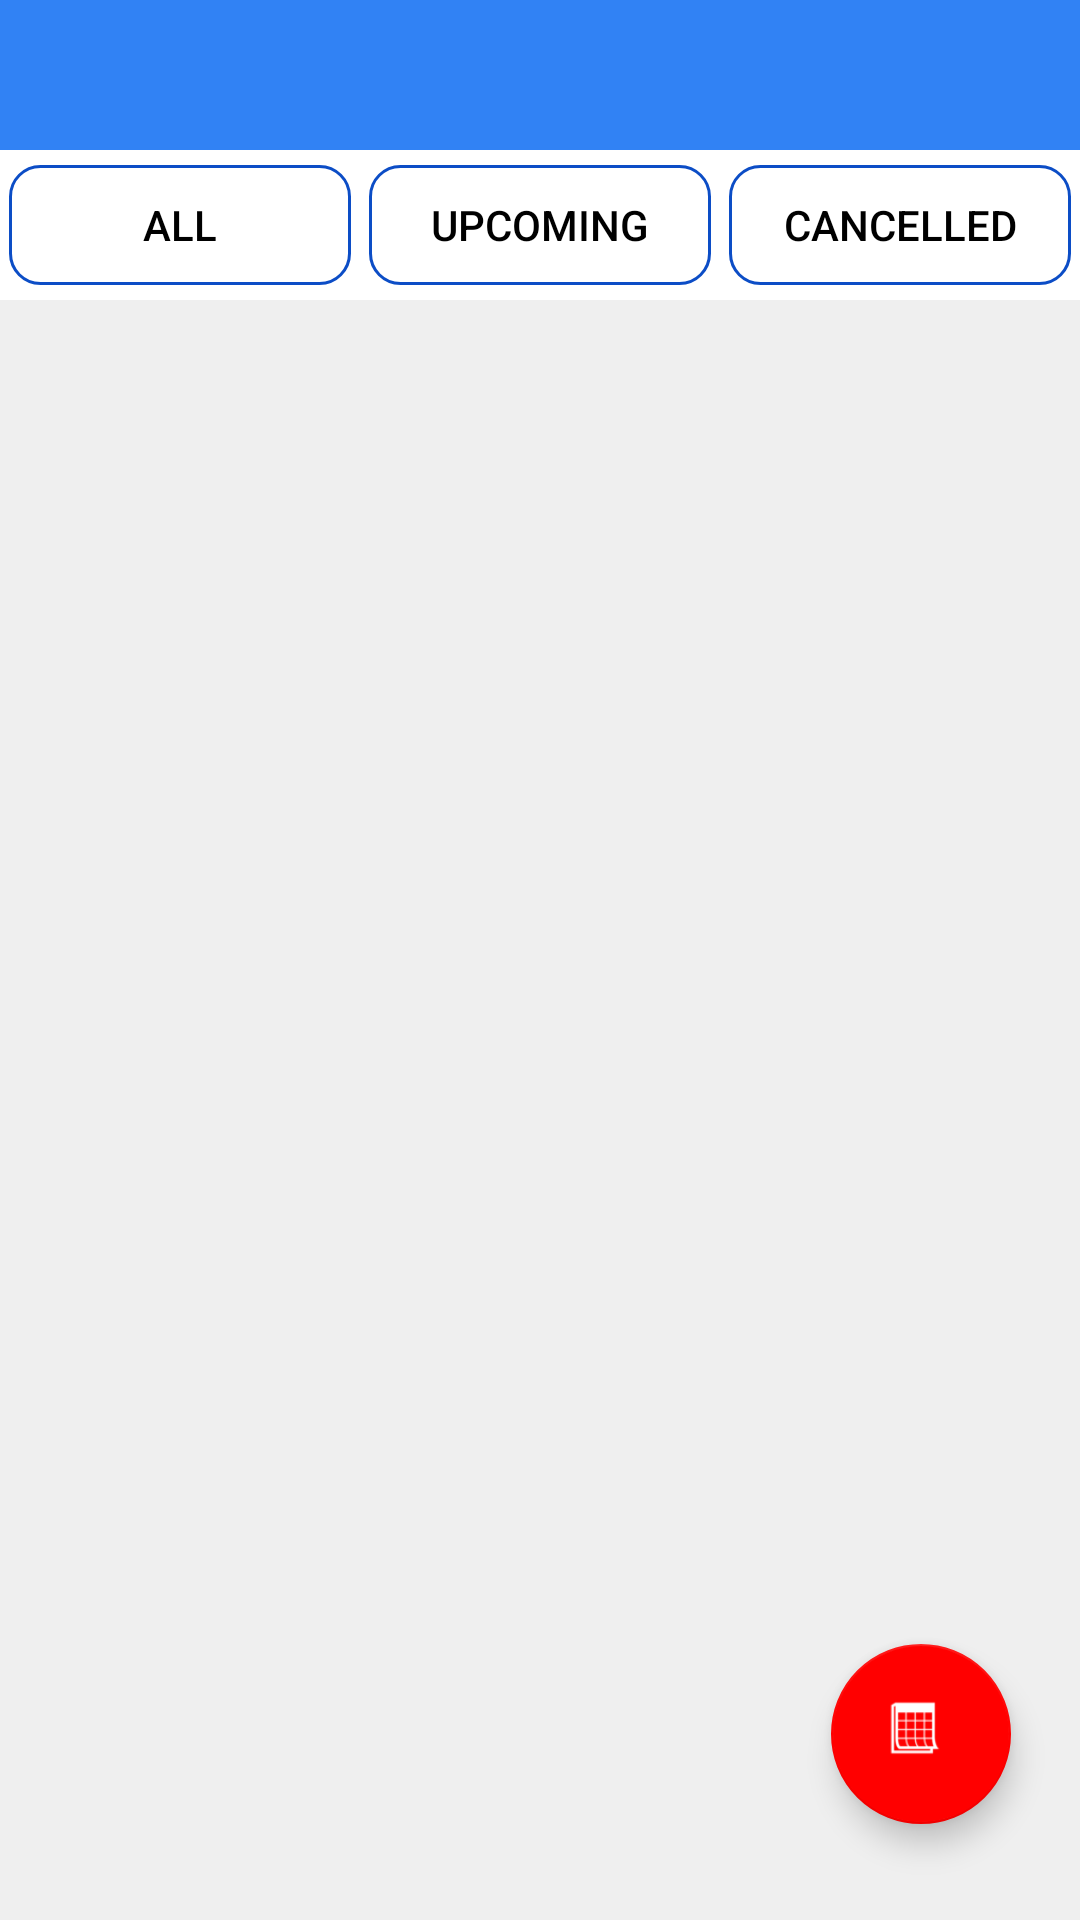

Screen size 1080px×1920px. Icon name, then its center in pixels as point (x, y):
cal: point (921, 1734)
